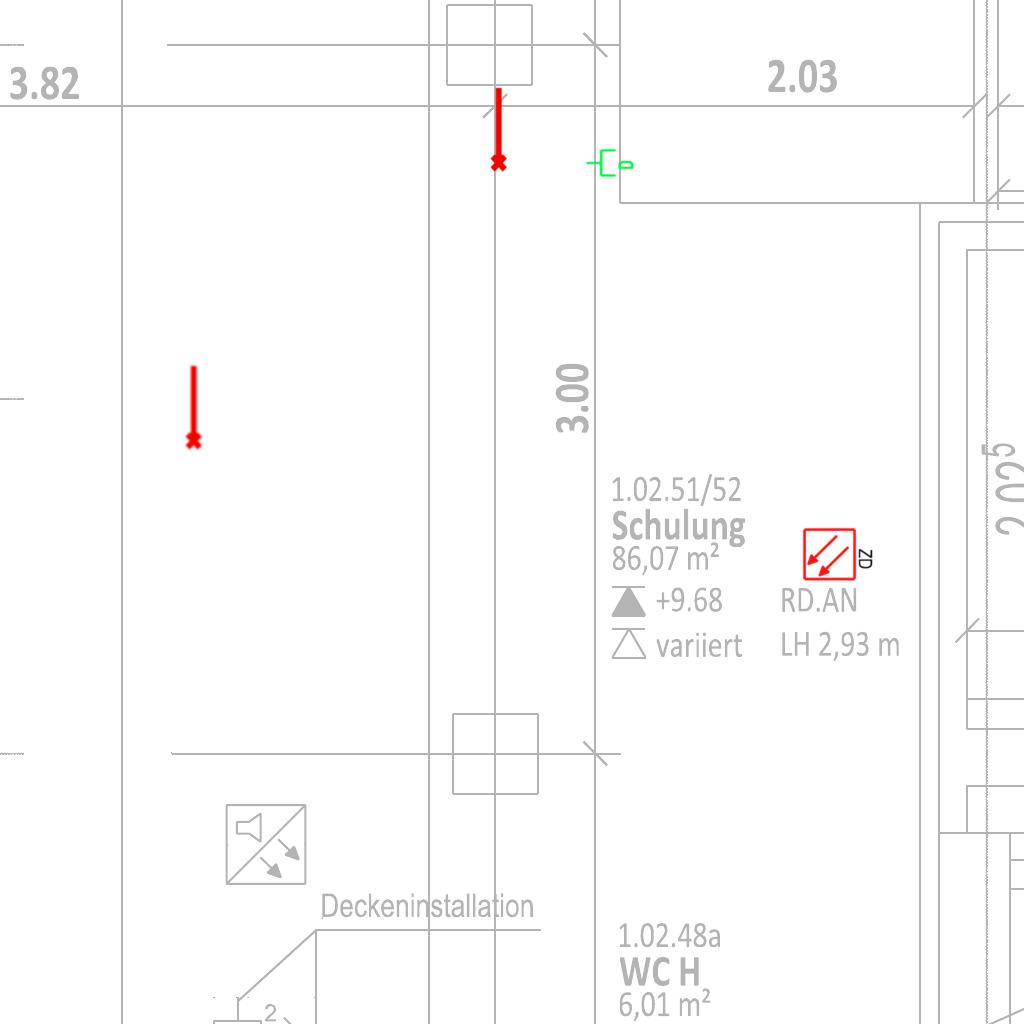ASR_Ansaugoeffnung: (486, 85, 509, 173), (181, 363, 204, 451)
Datenanschluss_einfach: (585, 145, 635, 179)
ZD_Melder_in_Zwischendecke_mit_Revisionsoeffnung_mind_40_x_40_cm: (802, 525, 876, 582)
